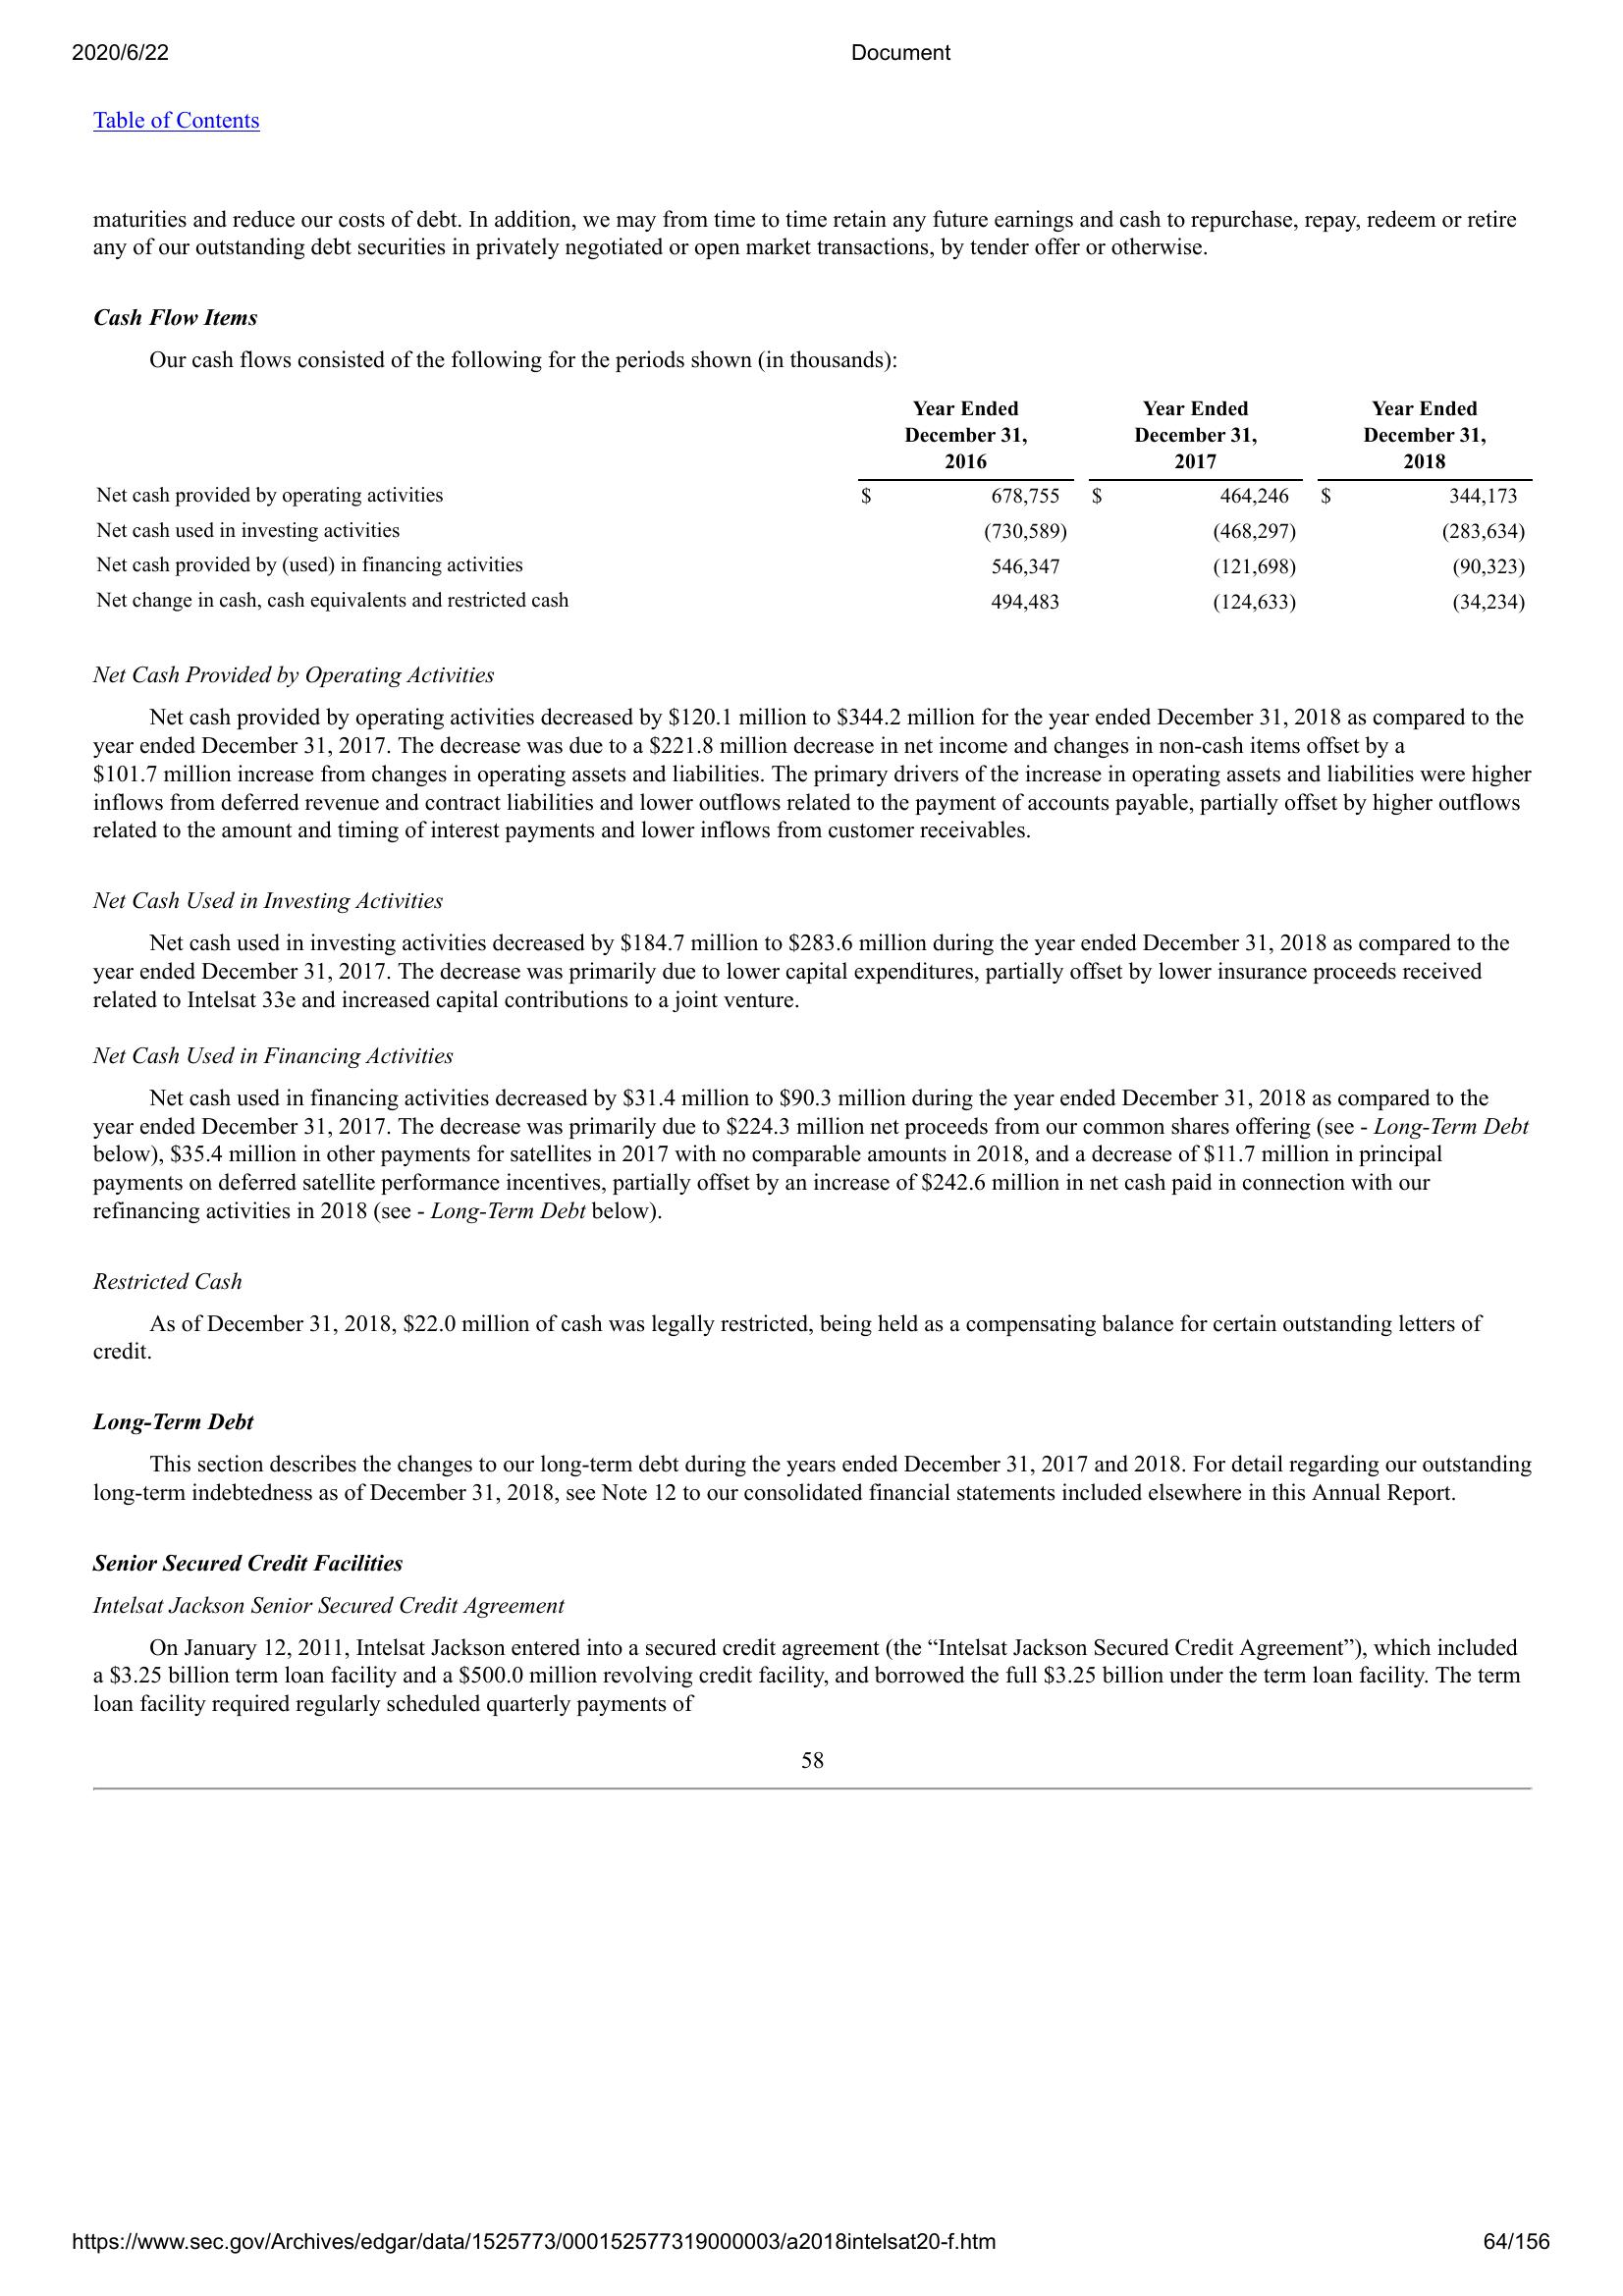table: (90, 388, 1533, 625)
